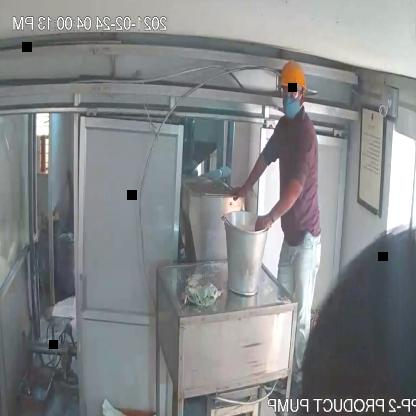helmet: (273, 58, 310, 93)
